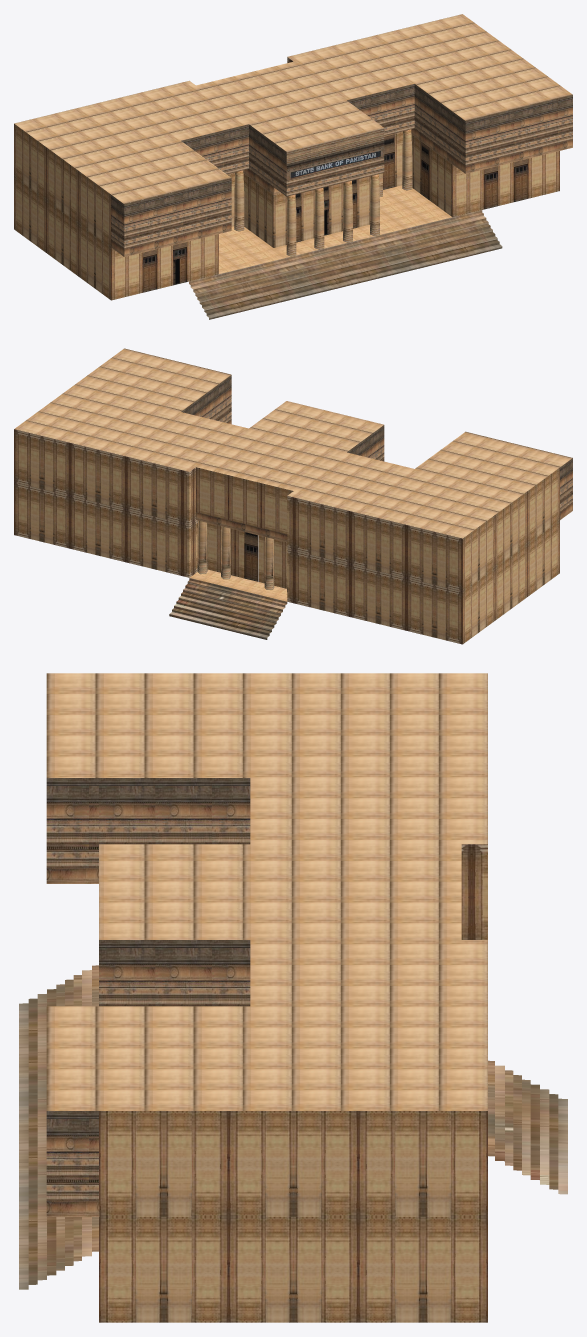
The model's file is State Bank Of Pakistan.fbx.
3 renders of one model, top to bottom at view 1: azimuth 30°, elevation 25°; view 2: azimuth 150°, elevation 25°; view 3: azimuth 270°, elevation 25°, orthographic. The views are drawn at different scales.
Visible parts, largest first — view 1: Plane.012; view 2: Plane.012; view 3: Plane.012.
Part boxes in pixels (left/top/right/bottom): Plane.012: left=14, top=14, right=572, bottom=319; Plane.012: left=14, top=348, right=572, bottom=644; Plane.012: left=19, top=673, right=567, bottom=1322.
Bounding box in the file's own units: 4402 × 1215 × 2332.
Materials: 1 (1 with a texture image).
